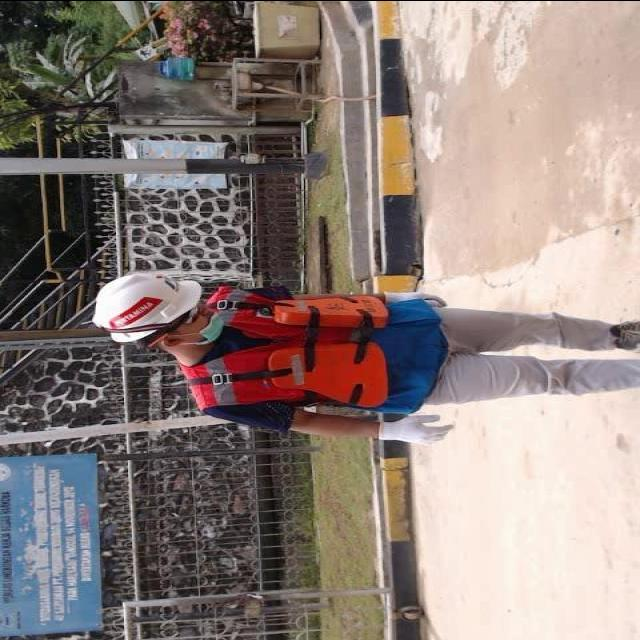helmet: (78, 271, 204, 365)
jacket: (167, 274, 417, 420)
